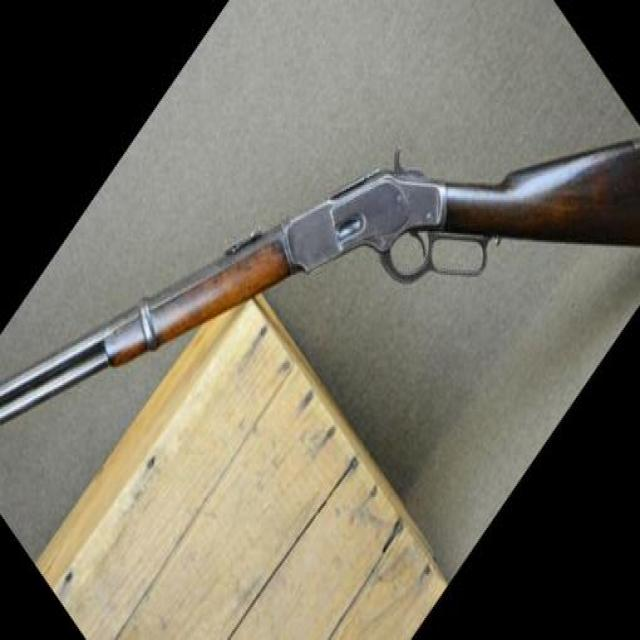heavy-weapon: (0, 136, 640, 425)
